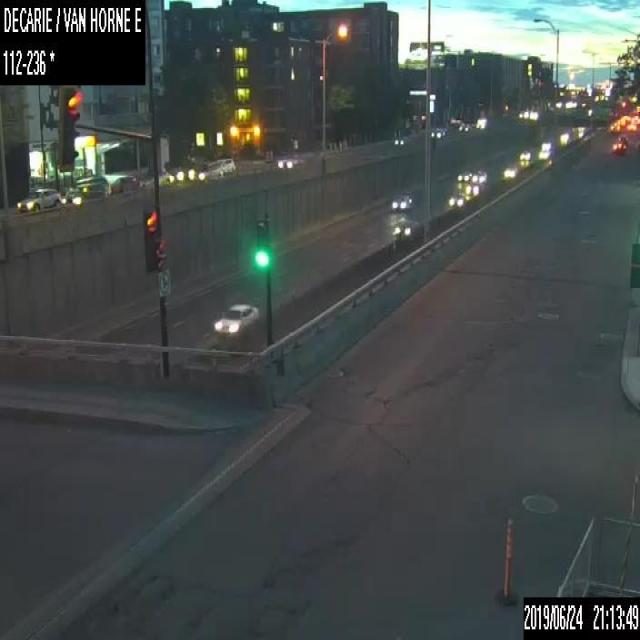construction: (494, 515, 520, 605), (269, 148, 273, 161), (265, 148, 268, 161)
vehicle: (61, 175, 109, 206), (215, 302, 259, 334), (15, 184, 61, 211), (187, 161, 222, 181), (108, 175, 139, 197), (391, 220, 422, 238), (391, 190, 414, 210), (276, 152, 300, 167), (447, 192, 464, 208), (464, 181, 482, 195), (610, 139, 625, 154), (472, 169, 487, 183), (541, 136, 556, 149), (430, 126, 446, 137), (538, 148, 552, 160), (457, 168, 471, 180), (393, 135, 408, 146), (501, 165, 516, 176), (475, 117, 487, 129), (518, 148, 530, 160), (458, 121, 470, 131), (617, 133, 627, 142)
